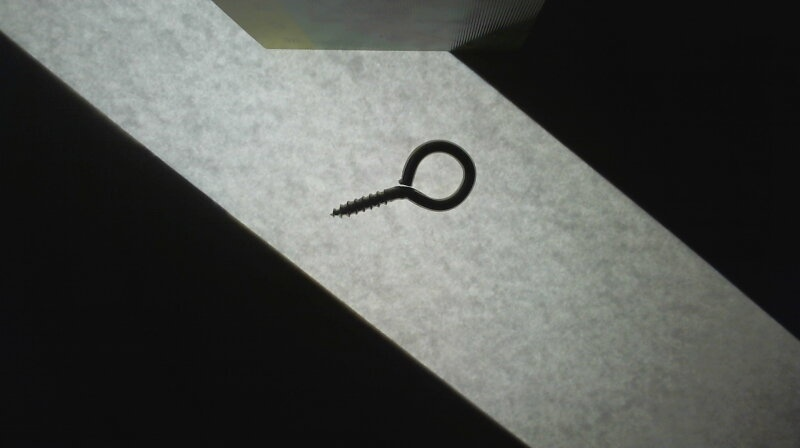O001: (328, 138, 480, 220)
